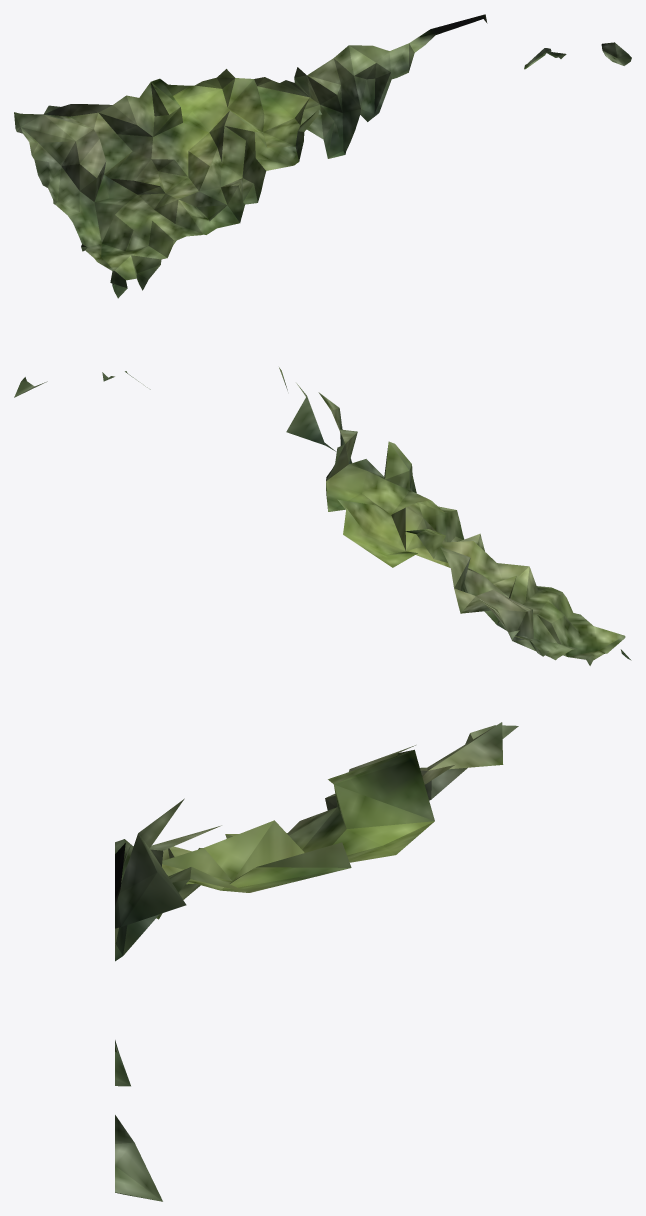
3 views of the same model, one above another, from view 1: azimuth 30°, elevation 25°; view 2: azimuth 150°, elevation 25°; view 3: azimuth 270°, elevation 25° (orthographic). The views are drawn at different scales.
Size of the model in its own units: 244 by 87.47 by 85.22.
Materials: 1 (1 with a texture image).
